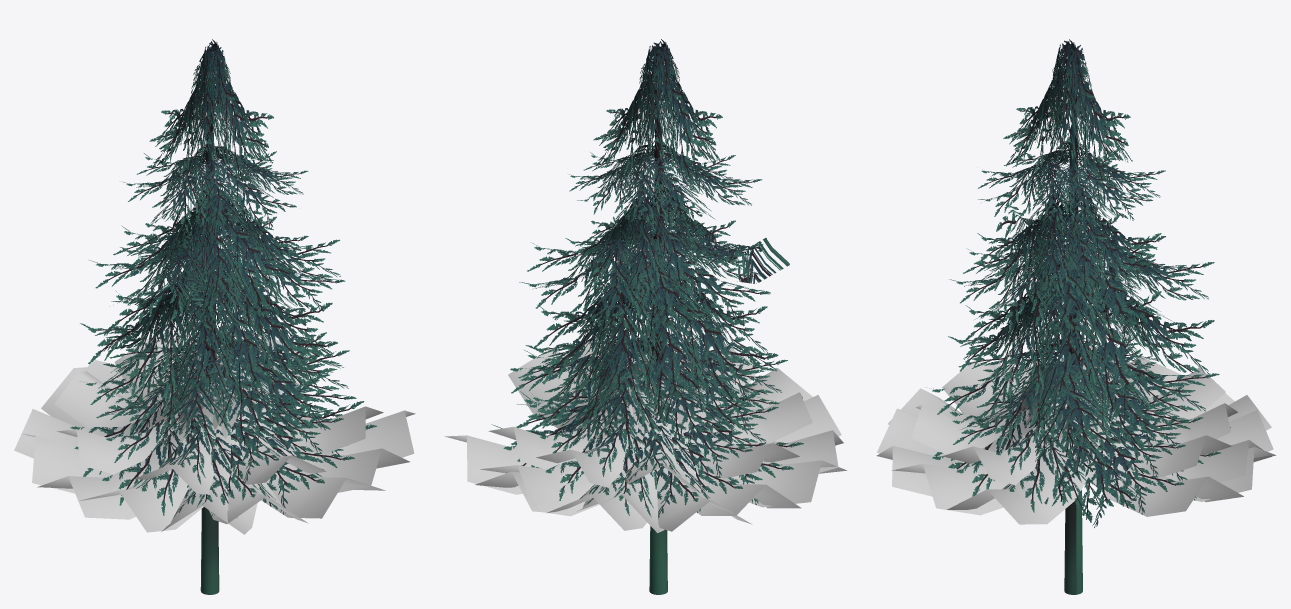
The model's file is basic tree 2.fbx.
3 views of the same model, side by side, from view 1: azimuth 30°, elevation 25°; view 2: azimuth 150°, elevation 25°; view 3: azimuth 270°, elevation 25° (orthographic).
Visible parts, largest first — view 1: pPlane33; view 2: pPlane33; view 3: pPlane33.
Boxes of the visible parts, x1,y1,x2,y2 form: pPlane33: (14,39,415,594); pPlane33: (444,39,846,594); pPlane33: (876,39,1276,594).
Bounding box in the file's own units: 1.08 × 1.73 × 1.09.
